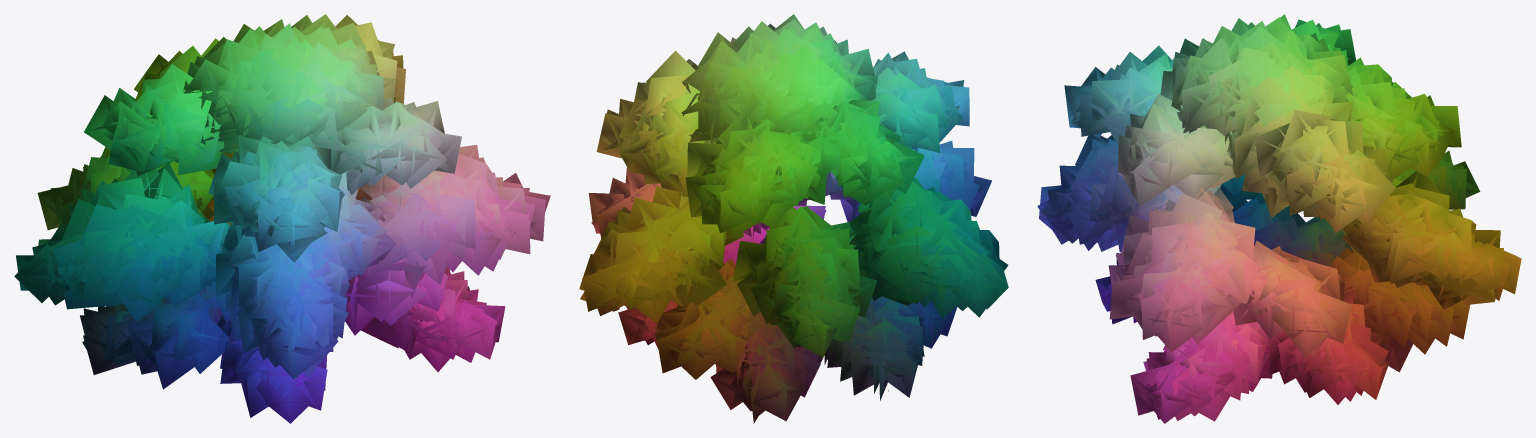
File: Forest_plant_tree_091_a.fbx
The picture shows the model from 3 angles, left to right: view 1: azimuth 30°, elevation 25°; view 2: azimuth 150°, elevation 25°; view 3: azimuth 270°, elevation 25°; orthographic projection. The views are drawn at different scales.
Visible parts, largest first — view 1: attribwrangle50; view 2: attribwrangle50; view 3: attribwrangle50.
Boxes of the visible parts, x1=… form: attribwrangle50: x1=14, y1=14, x2=550, y2=423; attribwrangle50: x1=579, y1=14, x2=1008, y2=423; attribwrangle50: x1=1037, y1=14, x2=1521, y2=423.
Bounding box in the file's own units: 17493 × 12588 × 15686.
